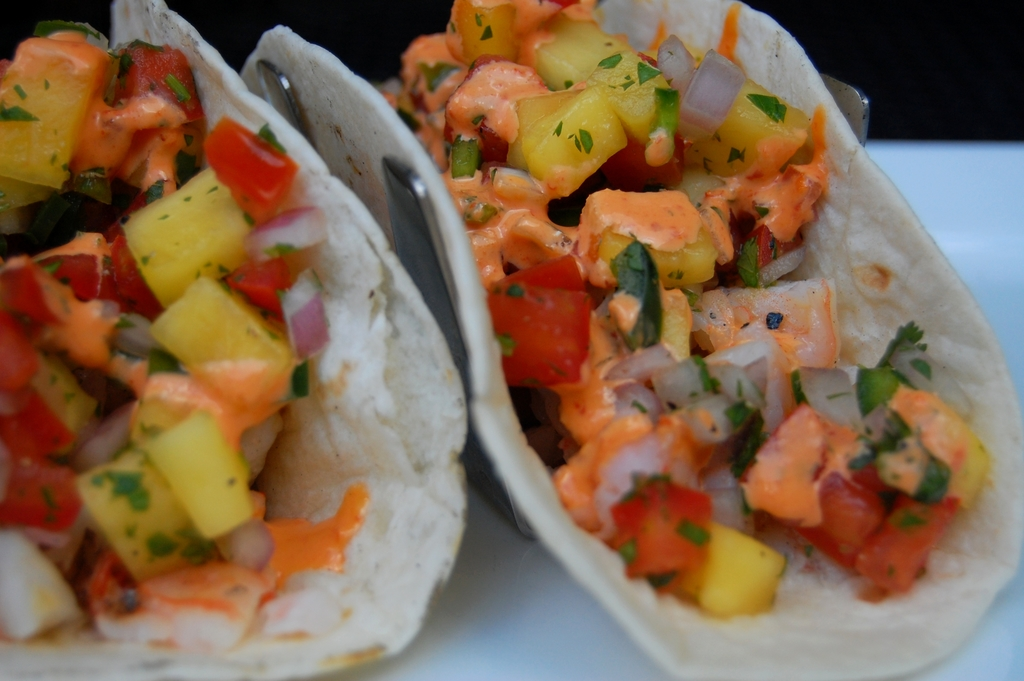taco: (270, 0, 975, 654), (1, 0, 469, 680)
